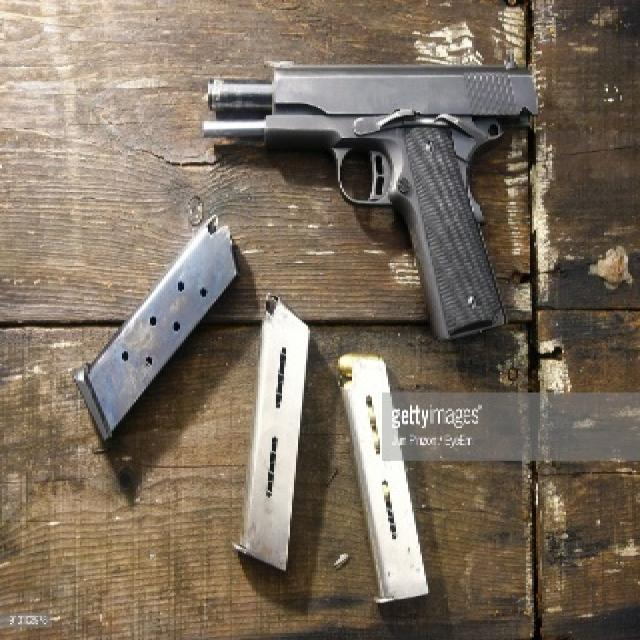handgun: (197, 57, 545, 336)
